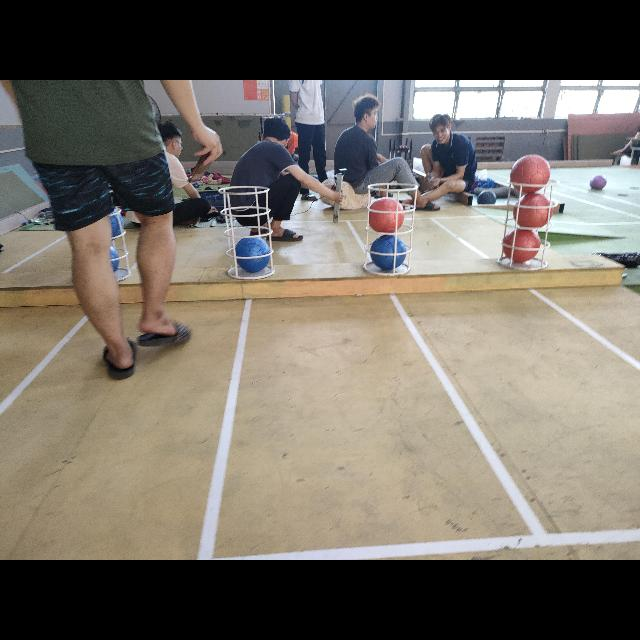B: (234, 236, 270, 272), (368, 236, 406, 270)
R: (508, 154, 552, 193), (367, 196, 405, 234), (502, 230, 542, 264), (514, 196, 552, 228)
